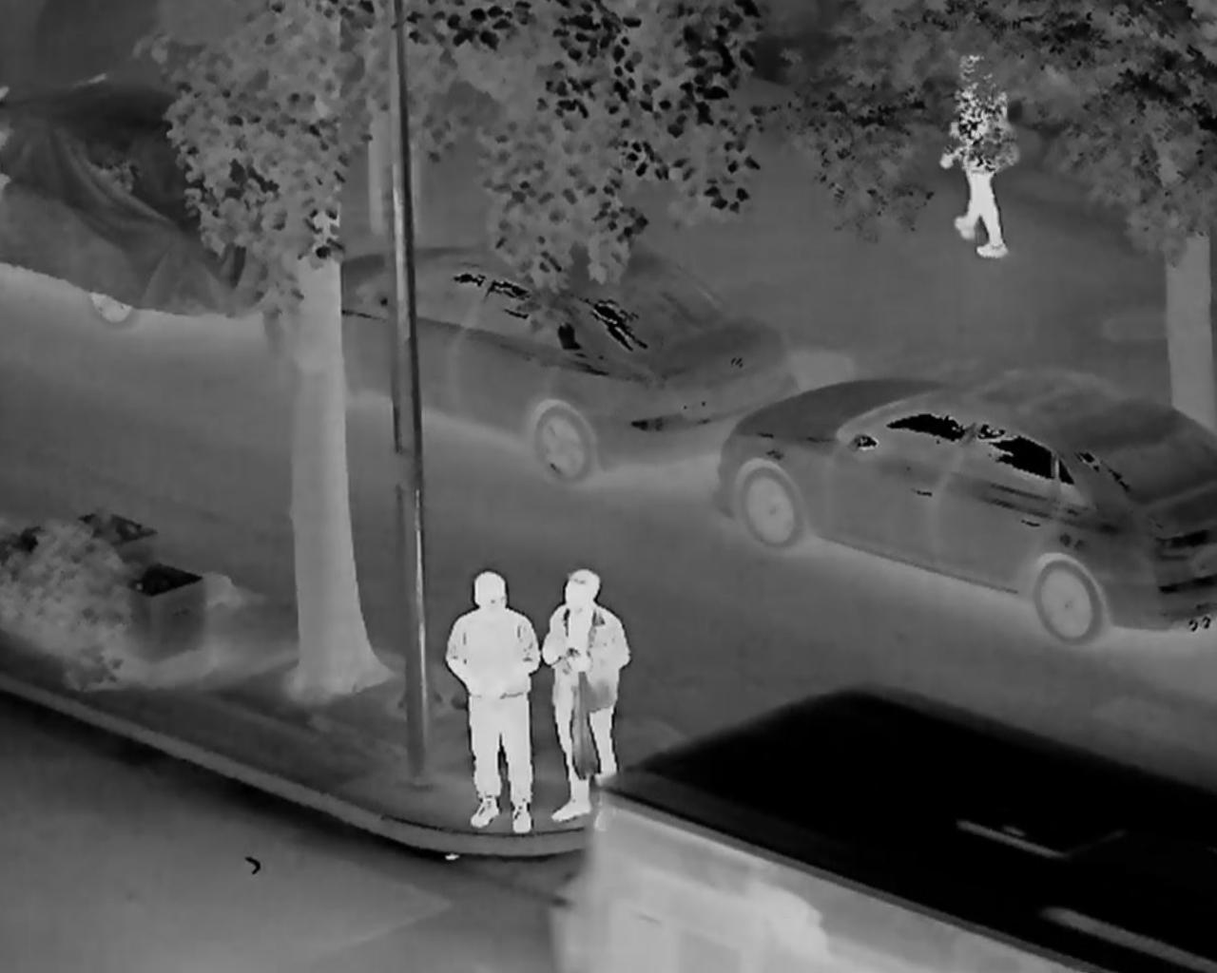person: (435, 568, 538, 830), (542, 566, 626, 819), (937, 48, 1011, 285)
